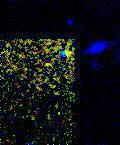star: (32, 50, 62, 80)
